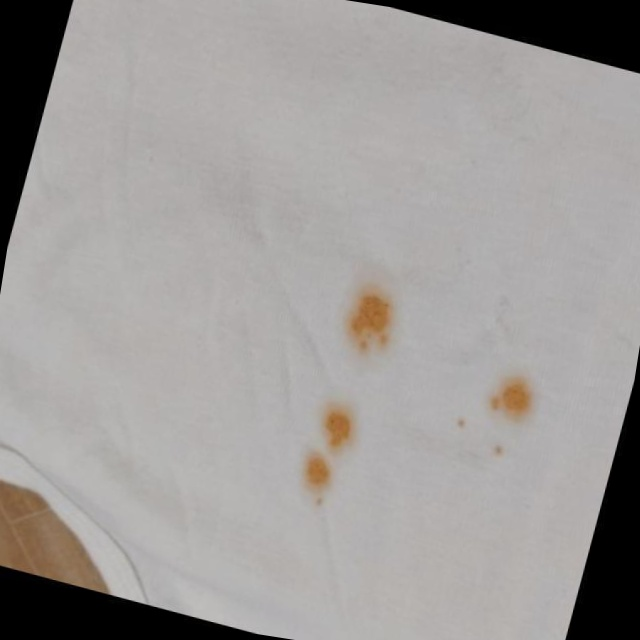kimchi: (474, 358, 548, 434), (338, 275, 403, 361), (285, 453, 336, 515), (312, 397, 362, 459), (484, 440, 516, 468), (440, 408, 470, 434)
